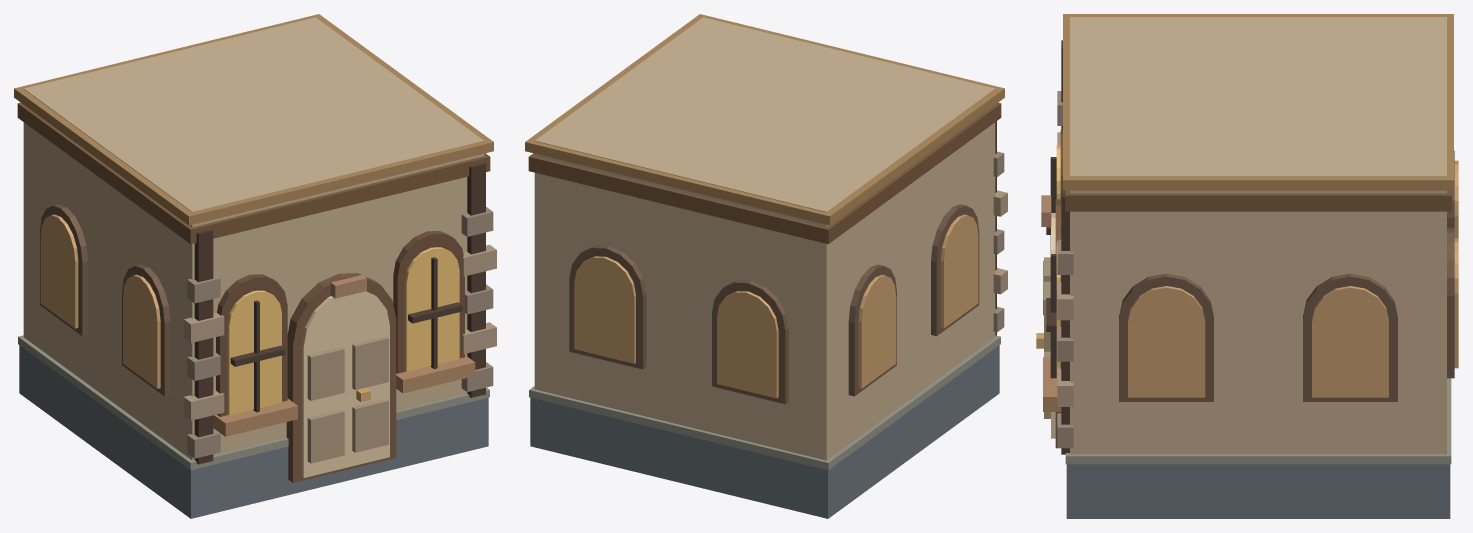
Rendered from plaza-architecture.glb.
3 views of the same model, side by side, from view 1: azimuth 30°, elevation 25°; view 2: azimuth 150°, elevation 25°; view 3: azimuth 270°, elevation 25° (orthographic). The views are drawn at different scales.
Visible parts, largest first — view 1: Storefront; view 2: Storefront; view 3: Storefront.
Boxes of the visible parts, bbox=[...] form: Storefront: bbox=[14, 14, 496, 518]; Storefront: bbox=[525, 14, 1007, 518]; Storefront: bbox=[1036, 14, 1458, 518].
Size of the model in its own units: 1.06 by 1 by 1.12.
